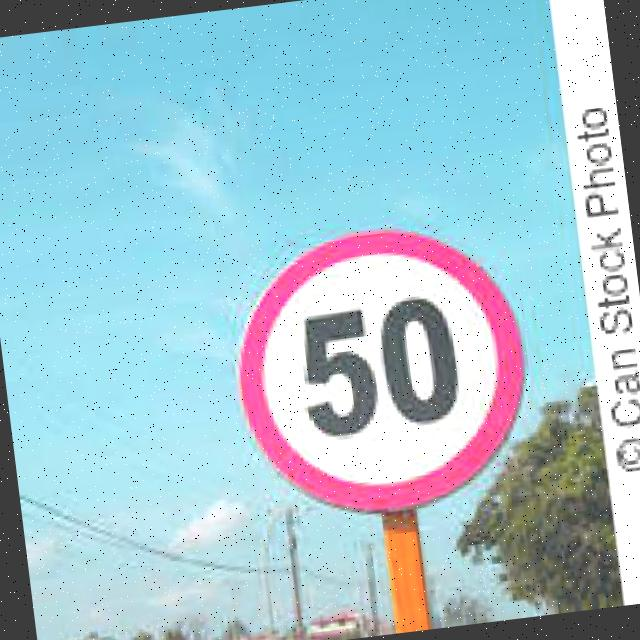Ograniczenie predkosci do 50: (223, 209, 546, 524)
